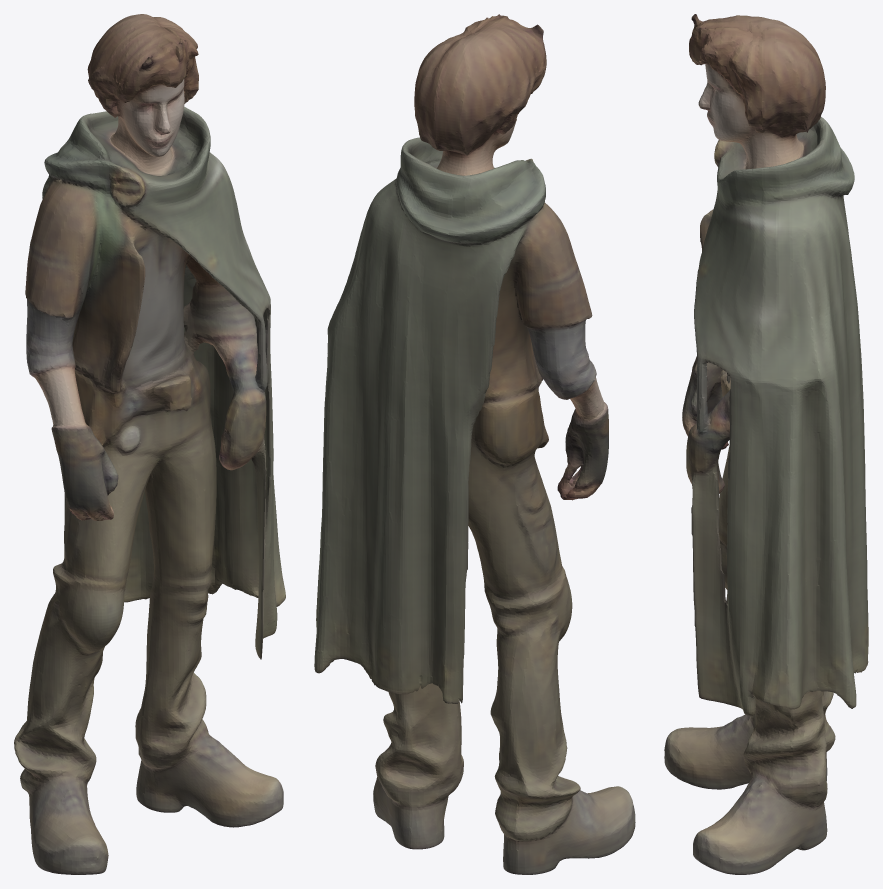
The model's file is sam3d_verify.glb.
3 renders of one model, left to right at view 1: azimuth 30°, elevation 25°; view 2: azimuth 150°, elevation 25°; view 3: azimuth 270°, elevation 25°, orthographic.
Visible parts, largest first — view 1: geometry_0; view 2: geometry_0; view 3: geometry_0.
Part boxes in pixels (box(x1,y1,x2,y2)): geometry_0: box(14, 14, 285, 874); geometry_0: box(314, 14, 635, 874); geometry_0: box(664, 14, 868, 874).
Bounding box in the file's own units: 0.3537 × 0.9983 × 0.2305.
